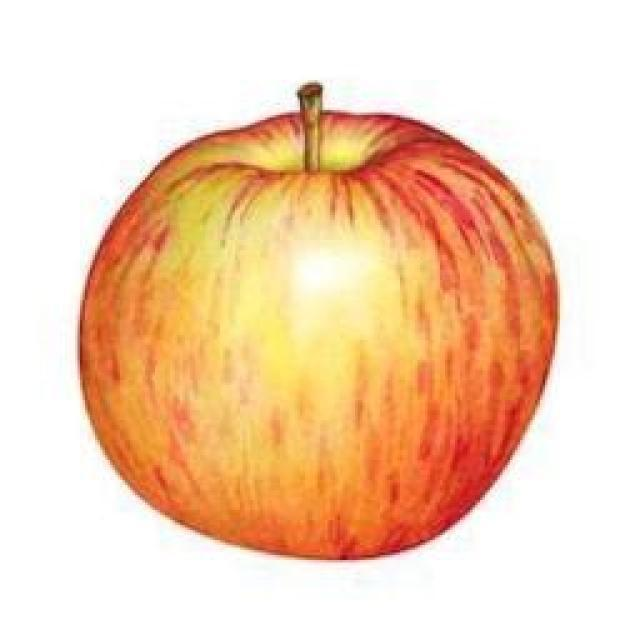Apple: (80, 85, 556, 558)
